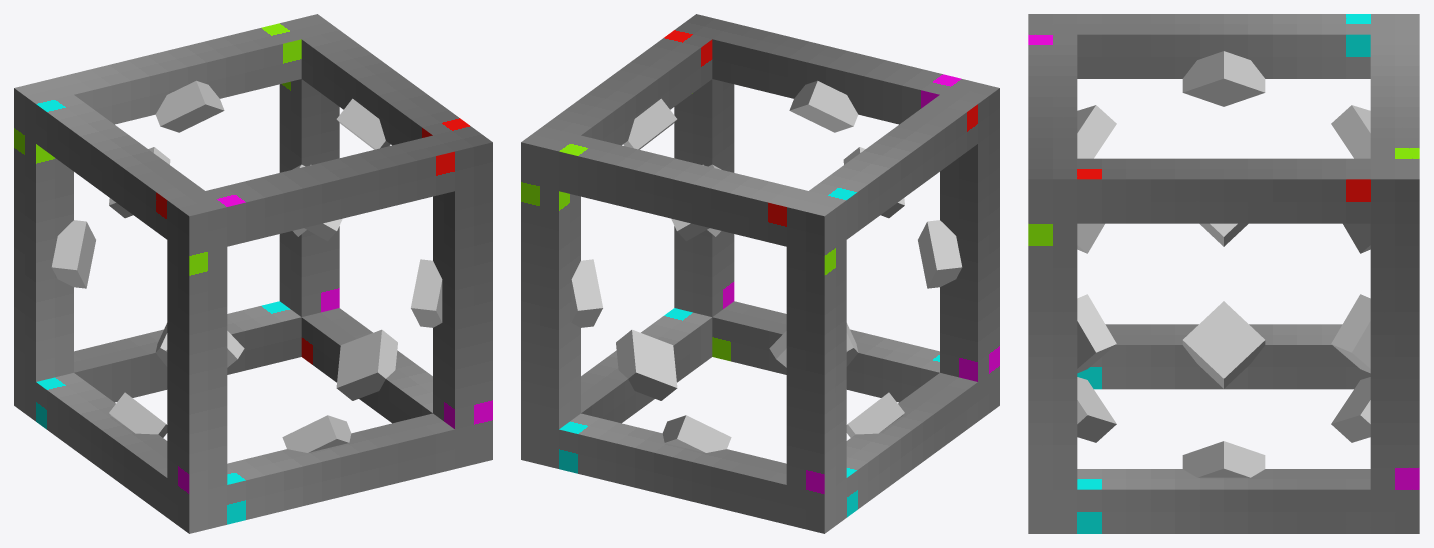
Rendered from dispenser.obj.
3 renders of one model, left to right at view 1: azimuth 30°, elevation 25°; view 2: azimuth 150°, elevation 25°; view 3: azimuth 270°, elevation 25°, orthographic. The views are drawn at different scales.
Parts seen in each view (by area): view 1: Frame_Cube, Magnets_Cylinder, MagnetsSide_Cylinder.001; view 2: Frame_Cube, Magnets_Cylinder, MagnetsSide_Cylinder.001; view 3: Frame_Cube, Magnets_Cylinder, MagnetsSide_Cylinder.001.
Part boxes in pixels (bbox=[...]): Frame_Cube: bbox=[14, 14, 492, 533]; Magnets_Cylinder: bbox=[109, 80, 397, 452]; MagnetsSide_Cylinder.001: bbox=[51, 164, 442, 367]; Frame_Cube: bbox=[521, 14, 999, 533]; Magnets_Cylinder: bbox=[616, 80, 904, 452]; MagnetsSide_Cylinder.001: bbox=[571, 164, 962, 367]; Frame_Cube: bbox=[1028, 14, 1419, 533]; Magnets_Cylinder: bbox=[1077, 51, 1370, 477]; MagnetsSide_Cylinder.001: bbox=[1077, 223, 1370, 373].
Size of the model in its own units: 1 by 1 by 1.
2 materials, 1 textured.
